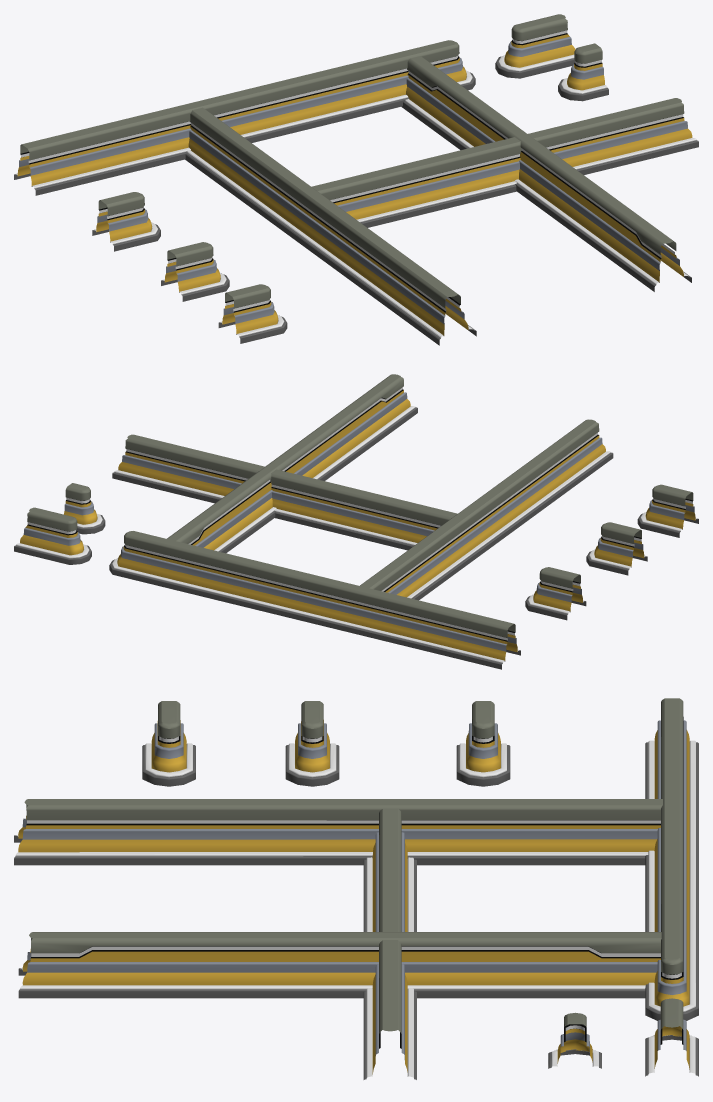
File: Small walls.fbx
3 renders of one model, top to bottom at view 1: azimuth 30°, elevation 25°; view 2: azimuth 150°, elevation 25°; view 3: azimuth 270°, elevation 25°, orthographic. The views are drawn at different scales.
Visible parts, largest first — view 1: Small_wall_L99, Small_wall_L24, Small_wallv1_11, Small_wallv1_38, Small_wall_L100, Small_wall_L101, Small_wall_L102, Small_wall_L32; view 2: Small_wall_L99, Small_wall_L24, Small_wallv1_11, Small_wallv1_38, Small_wall_L100, Small_wall_L102, Small_wall_L101, Small_wall_L32; view 3: Small_wall_L99, Small_wallv1_11, Small_wall_L24, Small_wall_L102, Small_wall_L101, Small_wall_L100, Small_wallv1_38, Small_wall_L32.
Part boxes in pixels (x1,y1,x2,y2): Small_wall_L99: (14,40,476,345); Small_wall_L24: (311,98,698,227); Small_wallv1_11: (401,56,691,291); Small_wallv1_38: (495,14,575,78); Small_wall_L100: (218,284,287,343); Small_wall_L101: (161,242,229,301); Small_wall_L102: (92,192,160,251); Small_wall_L32: (558,43,608,101); Small_wall_L99: (109,419,613,669); Small_wall_L24: (112,434,457,550); Small_wallv1_11: (167,374,417,553); Small_wallv1_38: (14,507,91,564); Small_wall_L100: (637,484,698,537); Small_wall_L102: (525,567,586,620); Small_wall_L101: (586,522,647,575); Small_wall_L32: (64,483,105,534); Small_wall_L99: (14,698,698,1020); Small_wallv1_11: (18,932,661,998); Small_wall_L24: (363,808,416,1079); Small_wall_L102: (456,701,510,786); Small_wall_L101: (285,701,339,786); Small_wall_L100: (142,701,195,786); Small_wallv1_38: (645,998,698,1076); Small_wall_L32: (548,1012,601,1068).
Bounding box in the file's own units: 508 × 38.89 × 440.
